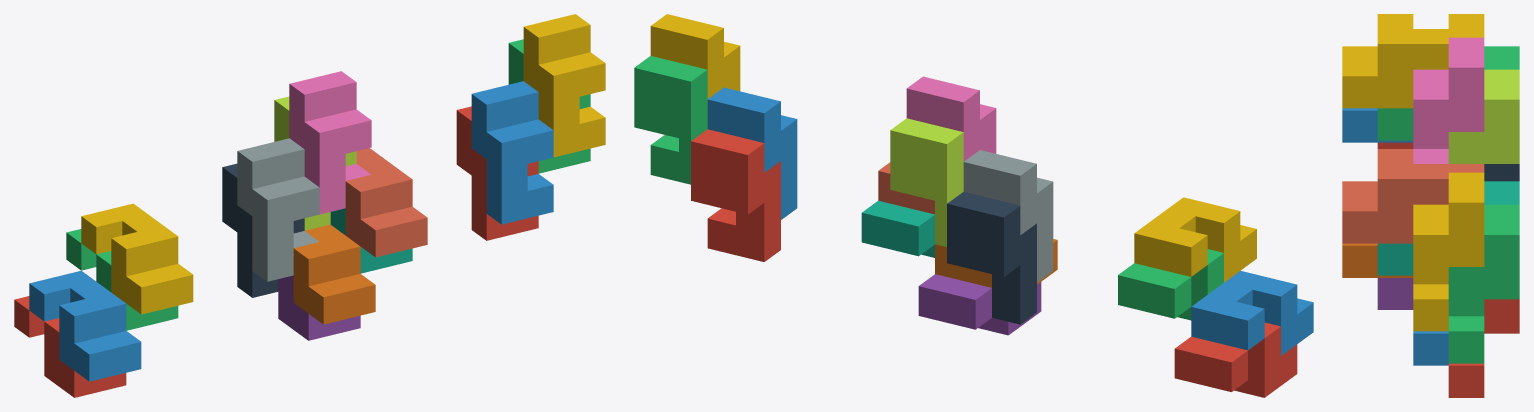
File: tiling.obj
The picture shows the model from 3 angles, left to right: view 1: azimuth 30°, elevation 25°; view 2: azimuth 150°, elevation 25°; view 3: azimuth 270°, elevation 25°; orthographic projection. The views are drawn at different scales.
Visible parts, largest first — view 1: copy_2_domain_6, copy_2_domain_8, copy_2_domain_2, copy_1_domain_4, copy_1_domain_2, copy_2_domain_4, copy_1_domain_8, copy_1_domain_6, copy_2_domain_5, copy_1_domain_1, copy_2_domain_1, copy_1_domain_3 (+4 smaller); view 2: copy_2_domain_5, copy_2_domain_1, copy_2_domain_7, copy_1_domain_2, copy_1_domain_4, copy_2_domain_3, copy_1_domain_1, copy_2_domain_6, copy_2_domain_2, copy_2_domain_4, copy_2_domain_8, copy_1_domain_3 (+4 smaller); view 3: copy_2_domain_8, copy_1_domain_4, copy_1_domain_8, copy_2_domain_7, copy_2_domain_4, copy_2_domain_3, copy_2_domain_5, copy_1_domain_3, copy_1_domain_7, copy_1_domain_2, copy_1_domain_6, copy_2_domain_6 (+3 smaller).
Part boxes in pixels (<box>): copy_2_domain_6: <box>471,81,553,224</box>; copy_2_domain_8: <box>523,14,605,157</box>; copy_2_domain_2: <box>237,138,319,281</box>; copy_1_domain_4: <box>81,203,193,314</box>; copy_1_domain_2: <box>29,270,141,381</box>; copy_2_domain_4: <box>289,71,371,214</box>; copy_1_domain_8: <box>345,148,427,257</box>; copy_1_domain_6: <box>293,224,375,324</box>; copy_2_domain_5: <box>456,106,538,240</box>; copy_1_domain_1: <box>14,296,126,397</box>; copy_2_domain_1: <box>222,163,304,297</box>; copy_1_domain_3: <box>66,229,178,330</box>; copy_2_domain_5: <box>691,129,780,261</box>; copy_2_domain_1: <box>947,191,1036,324</box>; copy_2_domain_7: <box>634,56,707,184</box>; copy_1_domain_2: <box>1191,270,1313,355</box>; copy_1_domain_4: <box>1134,197,1256,282</box>; copy_2_domain_3: <box>890,118,963,246</box>; copy_1_domain_1: <box>1174,322,1297,397</box>; copy_2_domain_6: <box>707,87,797,219</box>; copy_2_domain_2: <box>963,150,1053,282</box>; copy_2_domain_4: <box>906,76,996,161</box>; copy_2_domain_8: <box>650,14,740,98</box>; copy_1_domain_3: <box>1118,249,1223,320</box>; copy_2_domain_8: <box>1413,172,1484,331</box>; copy_1_domain_4: <box>1342,14,1484,108</box>; copy_1_domain_8: <box>1342,149,1484,243</box>; copy_2_domain_7: <box>1448,204,1519,363</box>; copy_2_domain_4: <box>1413,37,1484,163</box>; copy_2_domain_3: <box>1448,69,1519,163</box>; copy_2_domain_5: <box>1448,299,1519,397</box>; copy_1_domain_3: <box>1377,46,1519,140</box>; copy_1_domain_7: <box>1377,181,1519,275</box>; copy_1_domain_2: <box>1342,108,1413,142</box>; copy_1_domain_6: <box>1342,243,1413,277</box>; copy_2_domain_6: <box>1413,331,1448,365</box>.
Bounding box in the file's own units: 21 × 8 × 5.
